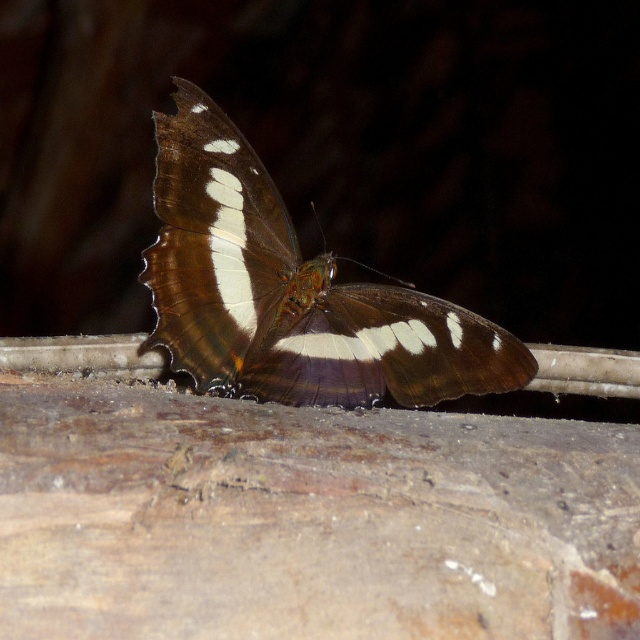Butterfly: (135, 78, 532, 413)
